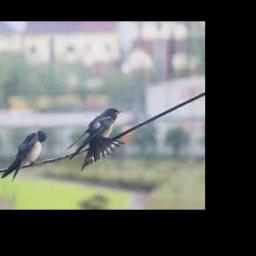Swallow: (67, 107, 125, 172), (1, 130, 47, 183)
